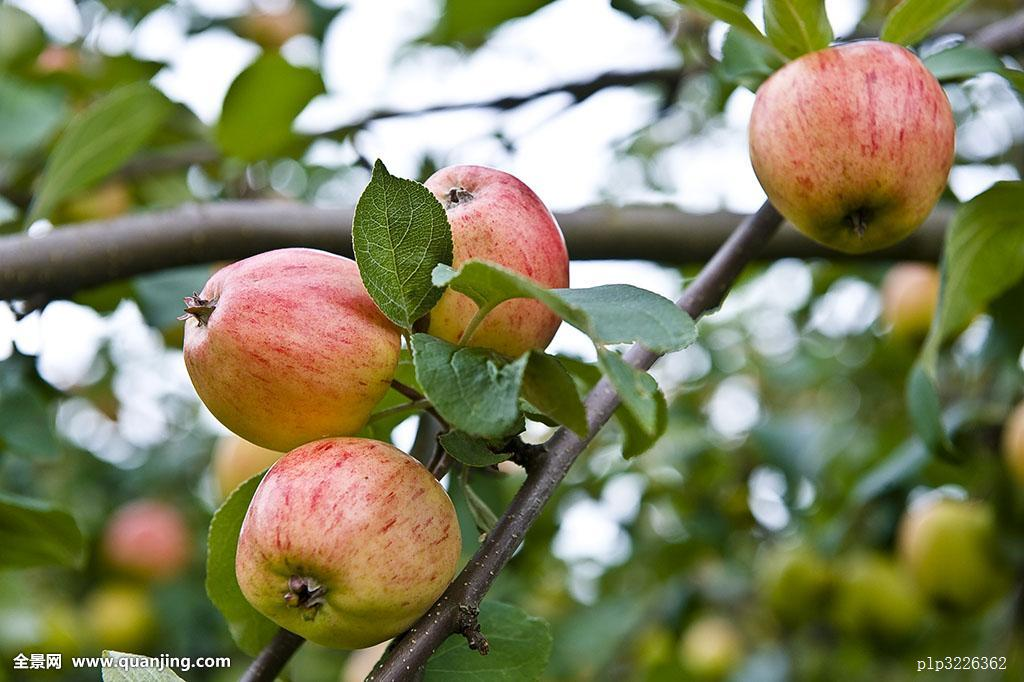apple: (233, 438, 463, 648), (748, 41, 957, 250), (180, 246, 406, 437)
obscured(2)_apple: (412, 163, 572, 356)
